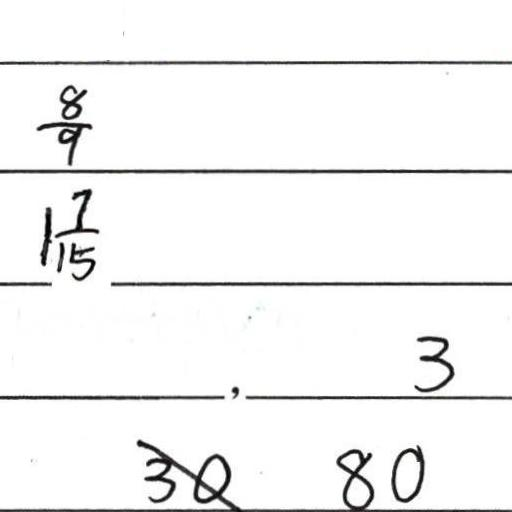ans: (32, 182, 101, 282), (333, 443, 428, 511), (32, 77, 92, 165), (408, 330, 457, 394)
